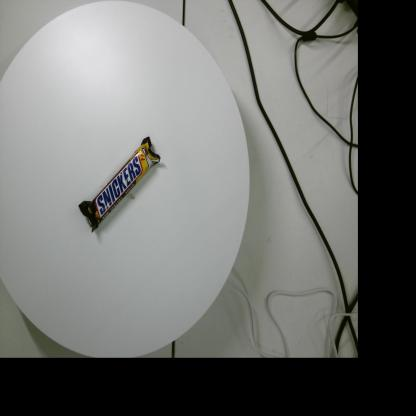Chocolate: (78, 136, 160, 233)
